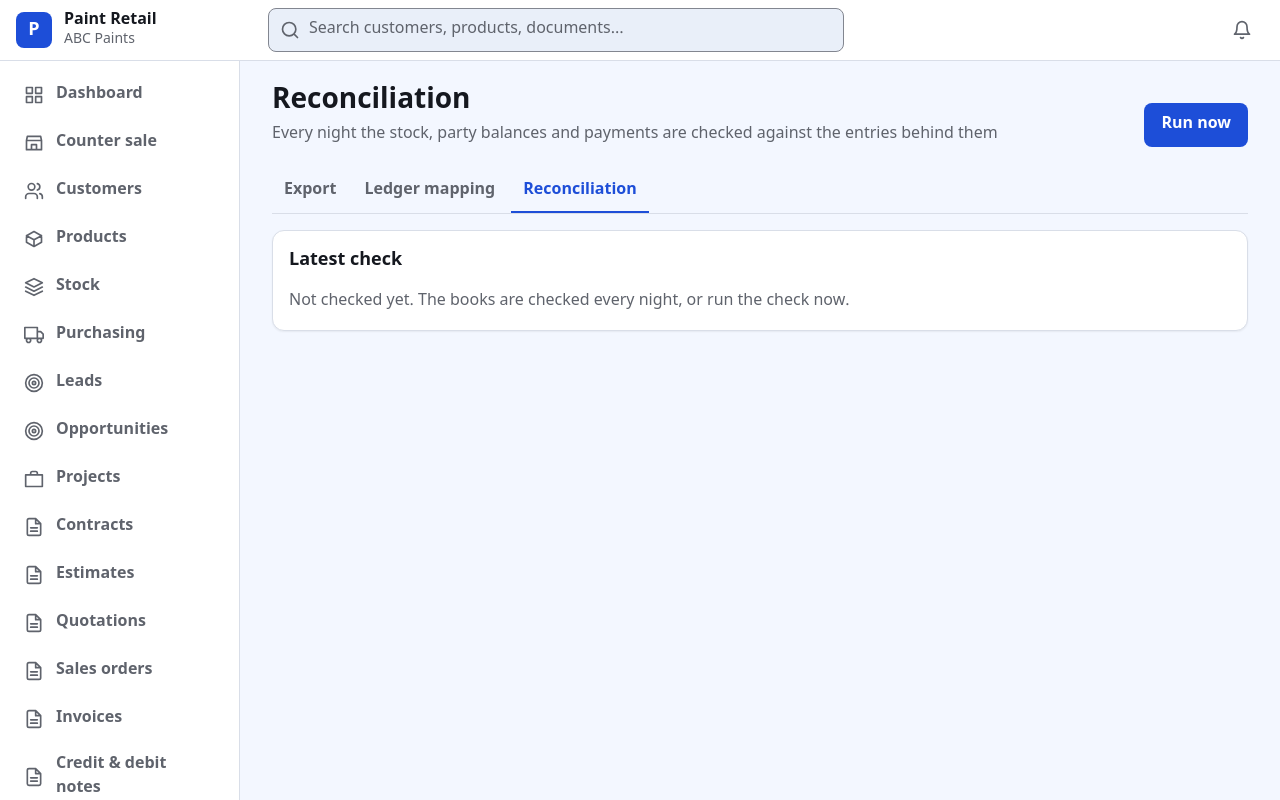
Scenario: ReconciliationPage › runs the first check by hand and shows the books in balance
The image size is (1280, 800).
Expected: the heading "Reconciliation" is shown, [272,83,470,119]
Expected: the text "Not checked yet. The books are checked every night, or run the check now." is shown, [289,291,850,312]
Click the button "Run now".
click(1196, 125)  # box [1144,103,1248,147]
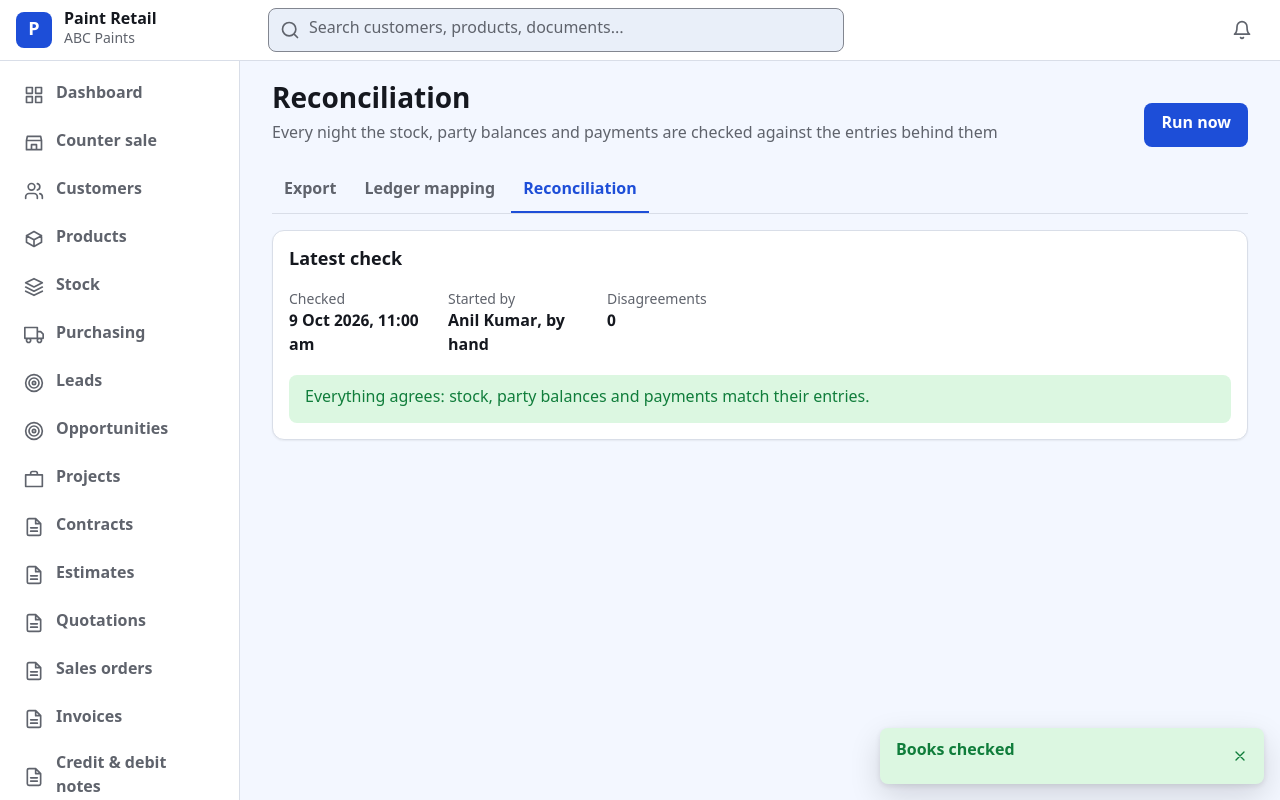
Expected: the text "Books checked" is shown, [896,741,1014,762]
Expected: the text "Everything agrees: stock, party balances and payments match their entries." is shown, [305,387,870,411]
Expected: the element named "About this check" shows "Anil Kumar, by hand", [448,312,565,357]
